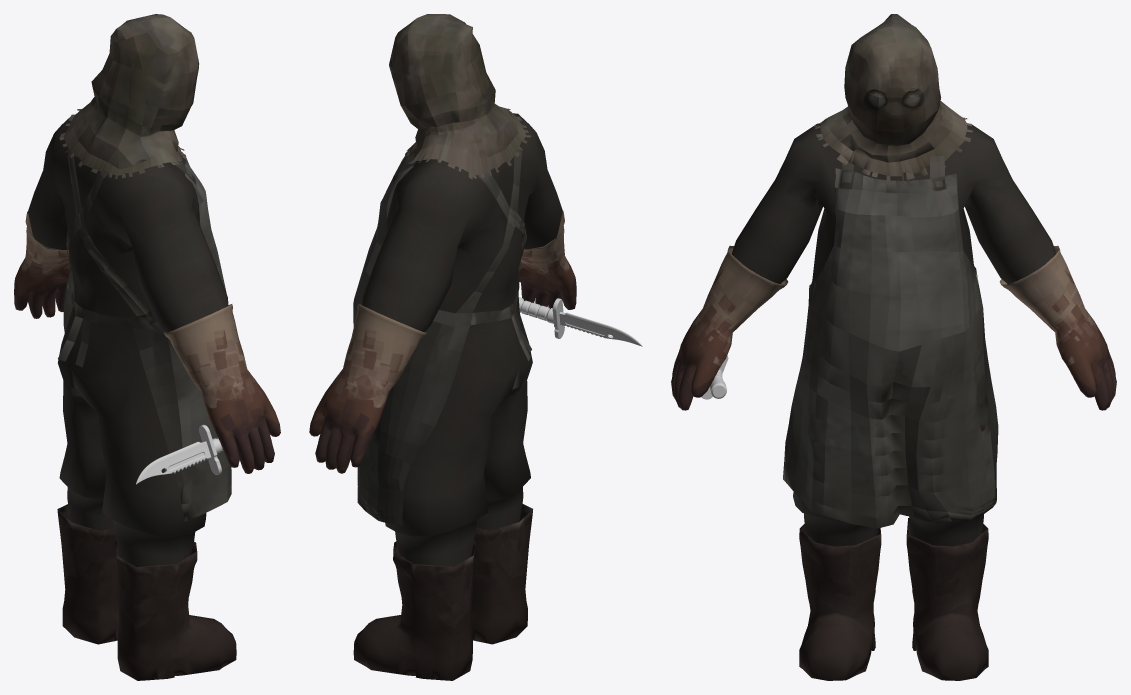
File: butcher.fbx
3 renders of one model, left to right at view 1: azimuth 30°, elevation 25°; view 2: azimuth 150°, elevation 25°; view 3: azimuth 270°, elevation 25°, orthographic.
Visible parts, largest first — view 1: body, head, Apron, Shoes-L, Hand-L, Shose-R, Hand-R, butcher; view 2: body, Apron, head, Shose-R, Hand-R, Shoes-L, Hand-L, butcher; view 3: Apron, body, head, Shose-R, Shoes-L, Hand-L, Hand-R.
Part boxes in pixels (x1=…): body: x1=28, y1=114, x2=228, y2=566; head: x1=59, y1=14, x2=199, y2=178; Apron: x1=58, y1=149, x2=231, y2=521; Shoes-L: x1=114, y1=541, x2=236, y2=680; Hand-L: x1=164, y1=304, x2=280, y2=473; Shose-R: x1=57, y1=504, x2=118, y2=644; Hand-R: x1=14, y1=211, x2=70, y2=318; butcher: x1=136, y1=424, x2=223, y2=484; body: x1=362, y1=113, x2=562, y2=566; Apron: x1=353, y1=145, x2=531, y2=525; head: x1=389, y1=14, x2=531, y2=179; Shose-R: x1=353, y1=540, x2=475, y2=680; Hand-R: x1=309, y1=303, x2=426, y2=473; Shoes-L: x1=471, y1=503, x2=532, y2=644; Hand-L: x1=518, y1=211, x2=576, y2=309; butcher: x1=518, y1=297, x2=642, y2=346; Apron: x1=783, y1=156, x2=998, y2=528; body: x1=732, y1=123, x2=1055, y2=546; head: x1=814, y1=14, x2=972, y2=180; Shose-R: x1=906, y1=518, x2=988, y2=680; Shoes-L: x1=799, y1=524, x2=881, y2=680; Hand-L: x1=671, y1=245, x2=788, y2=410; Hand-R: x1=999, y1=245, x2=1116, y2=410.
Size of the model in its own units: 206 by 687 by 441.
